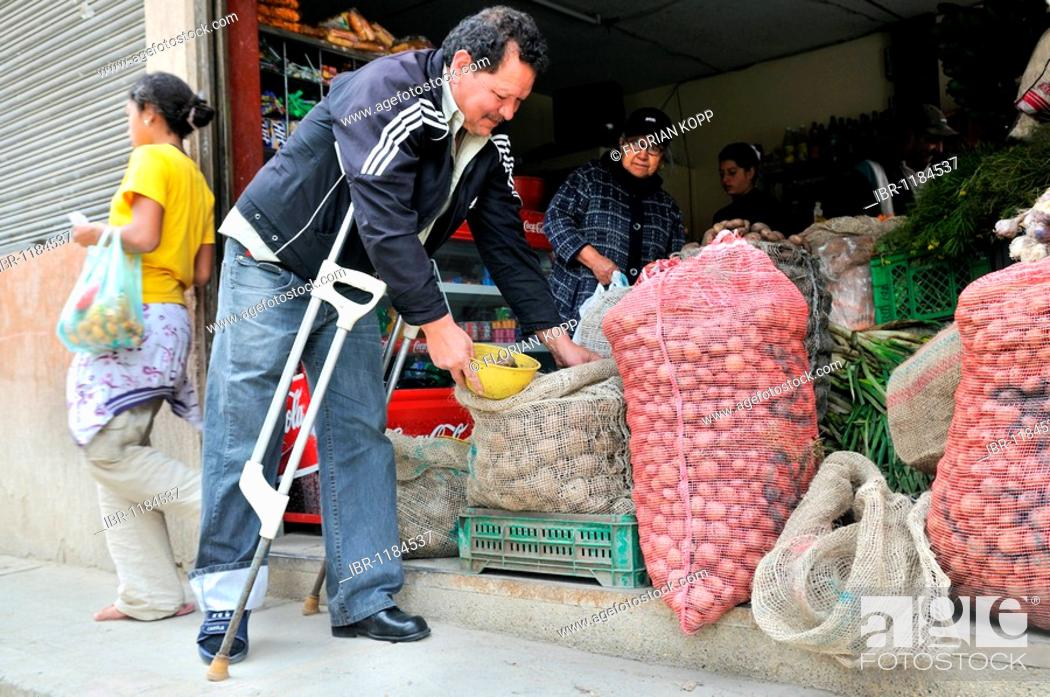crutches: (191, 7, 549, 680)
